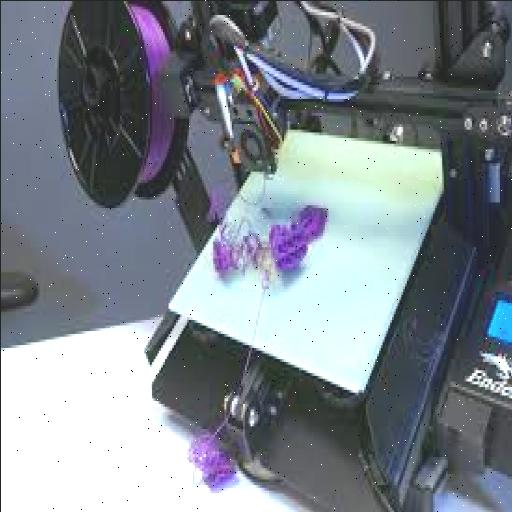spaghetti: (206, 198, 334, 284), (182, 412, 243, 504)
